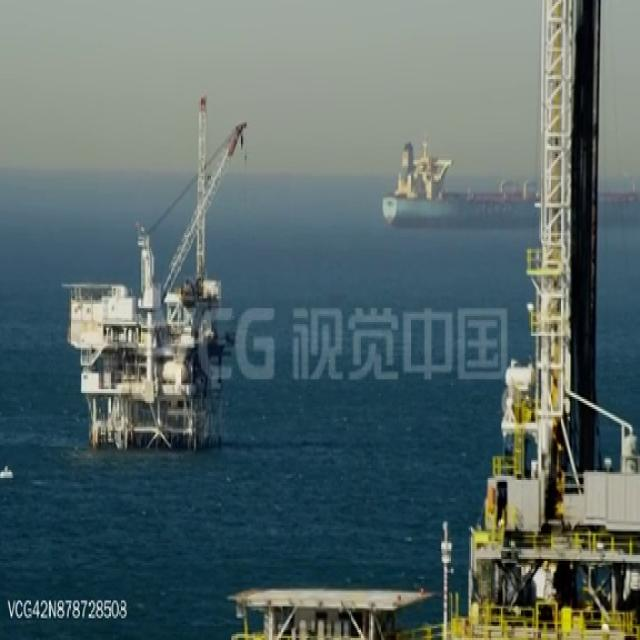cargoship: (382, 127, 640, 229)
